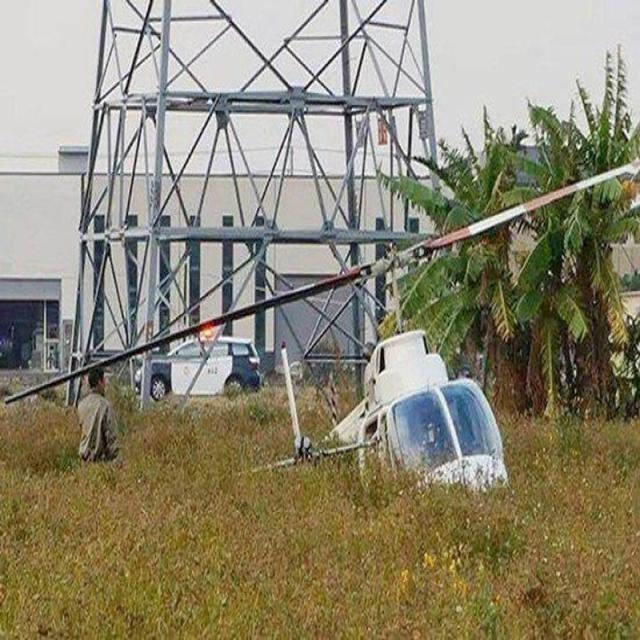non-critical vegetation: (91, 1, 426, 322)
